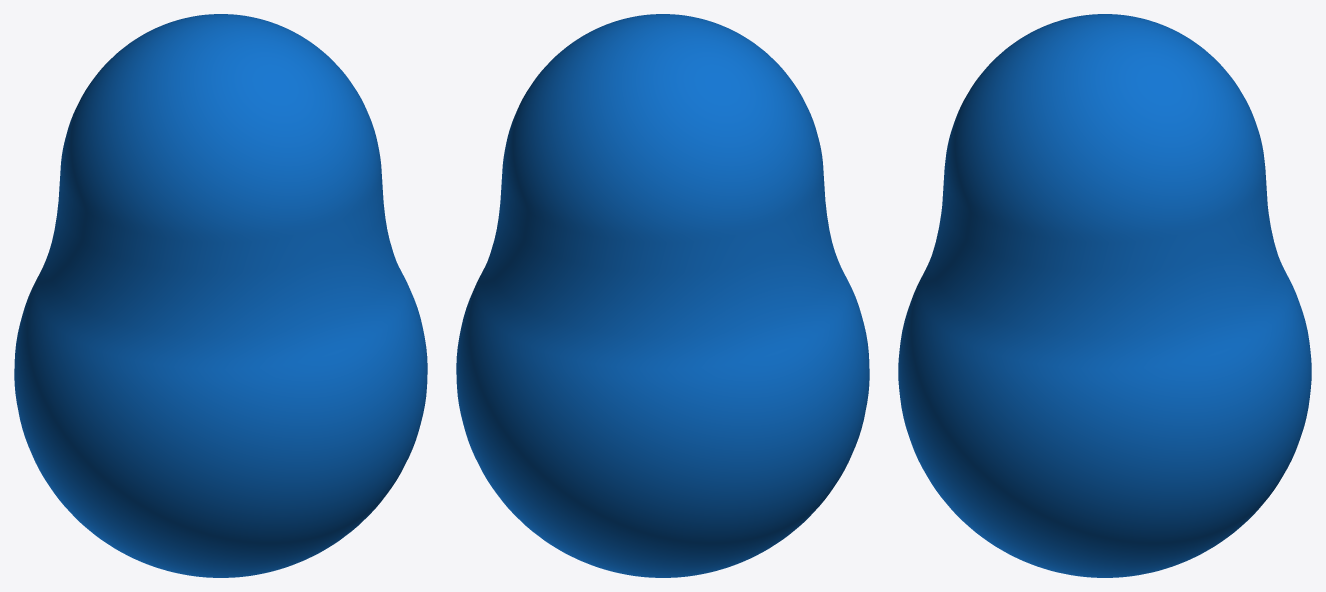
The model's file is character.FBX.
The picture shows the model from 3 angles, left to right: view 1: azimuth 30°, elevation 25°; view 2: azimuth 150°, elevation 25°; view 3: azimuth 270°, elevation 25°; orthographic projection.
Visible parts, largest first — view 1: Charachter; view 2: Charachter; view 3: Charachter.
Boxes of the visible parts, x1,y1,x2,y2 form: Charachter: [14, 14, 427, 577]; Charachter: [456, 14, 869, 577]; Charachter: [898, 14, 1311, 577].
Bounding box in the file's own units: 18 × 18 × 25.45.
